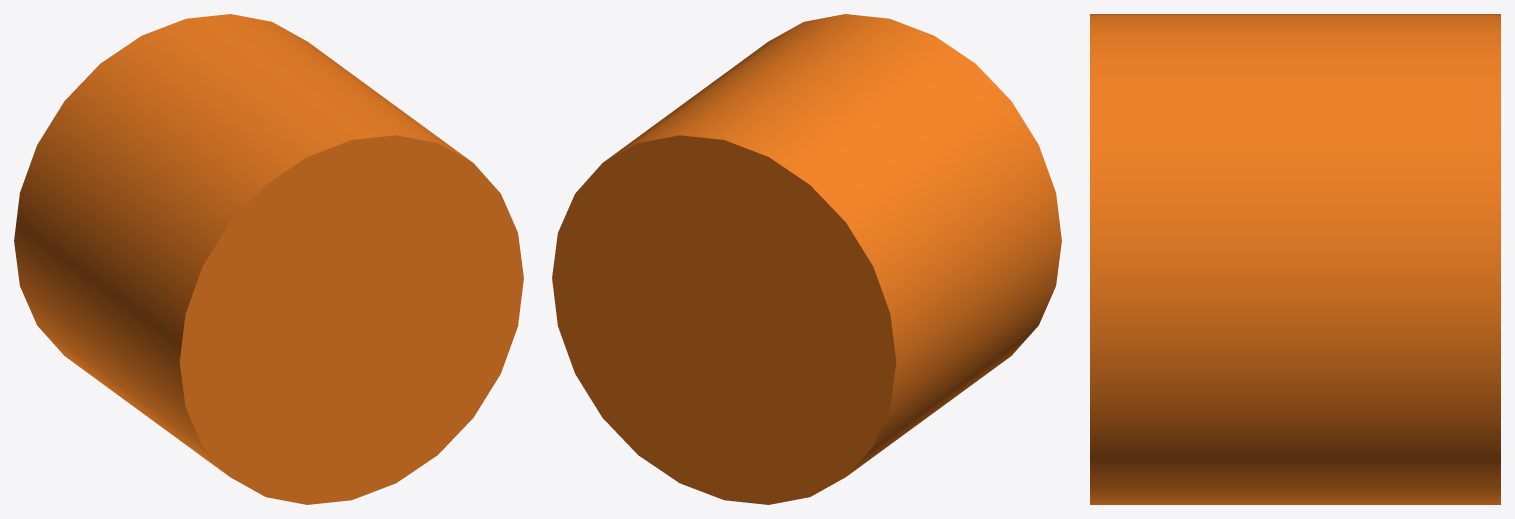
3 renders of one model, left to right at view 1: azimuth 30°, elevation 25°; view 2: azimuth 150°, elevation 25°; view 3: azimuth 270°, elevation 25°, orthographic. The views are drawn at different scales.
Parts seen in each view (by area): view 1: gripper_frame; view 2: gripper_frame; view 3: gripper_frame.
Part boxes in pixels (x1=…): gripper_frame: x1=14, y1=14, x2=523, y2=504; gripper_frame: x1=552, y1=14, x2=1061, y2=504; gripper_frame: x1=1090, y1=14, x2=1500, y2=504.
Size of the model in its own units: 0.012 by 0.012 by 0.01.
